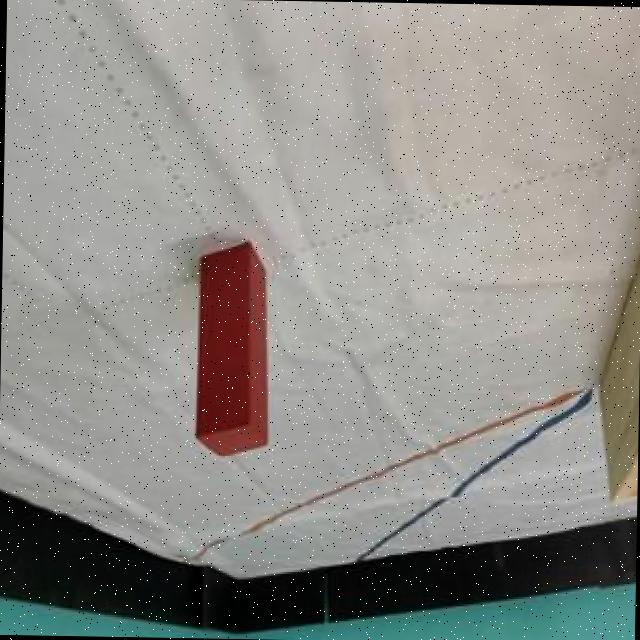redbox: (190, 242, 272, 456)
